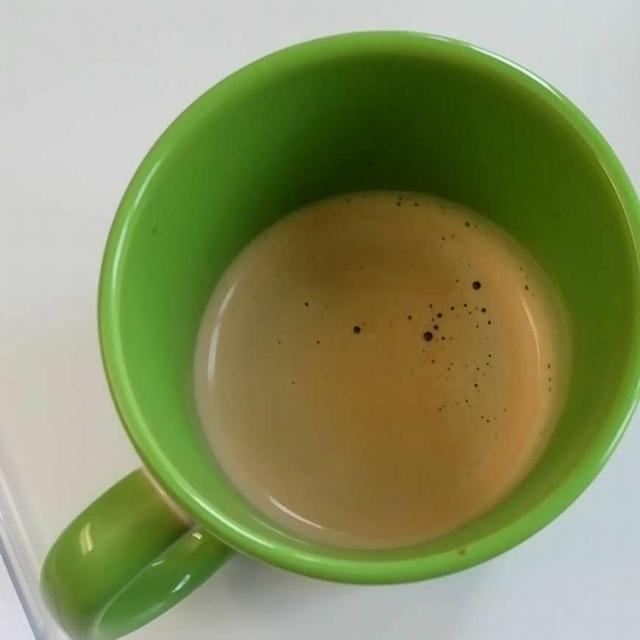coffee: (201, 178, 558, 536)
